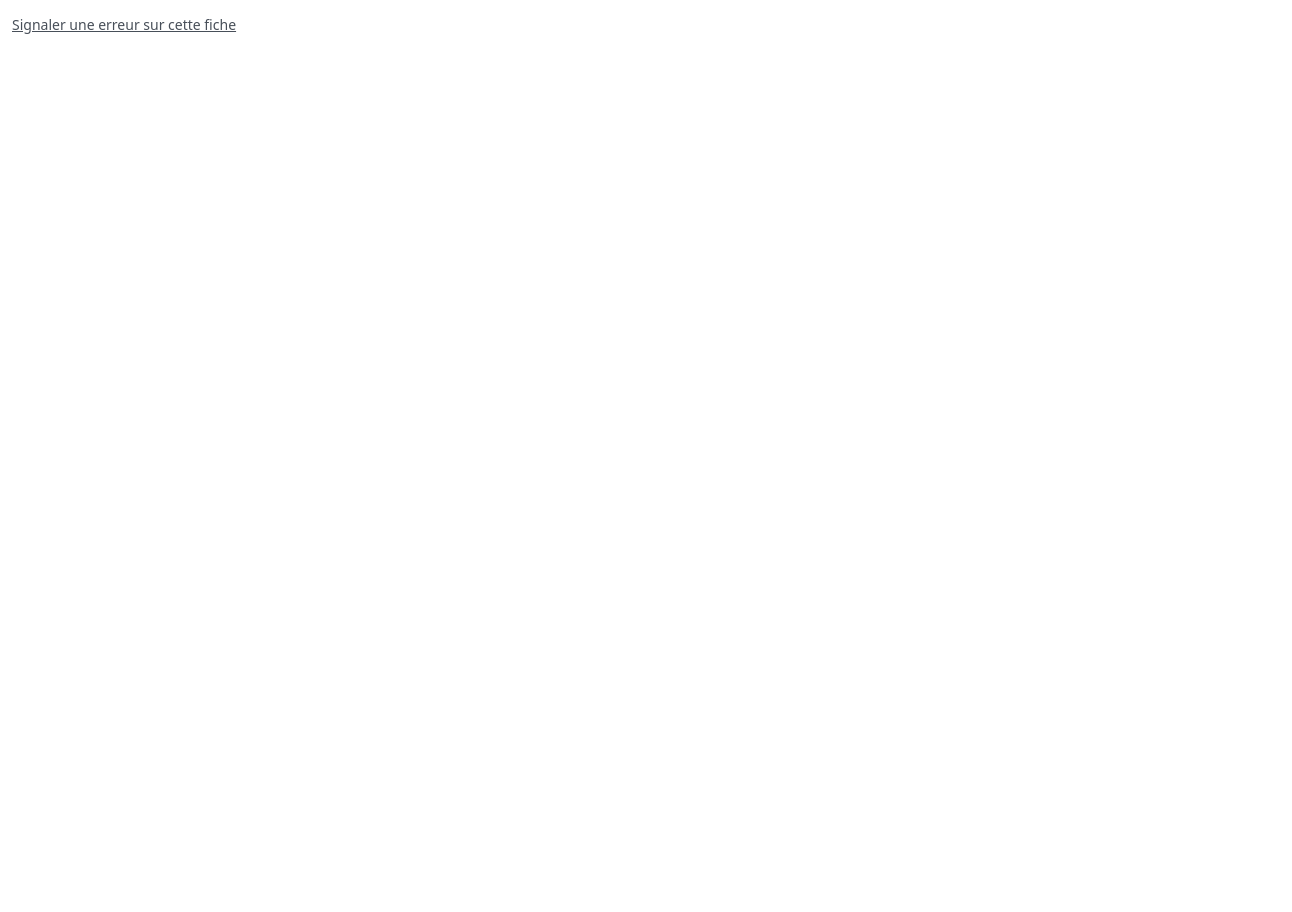
Test: ReportForm › shows why the API refused the report
Step 1. Click the button "Signaler une erreur sur cette fiche" → (124, 25), box [12,15,236,35]
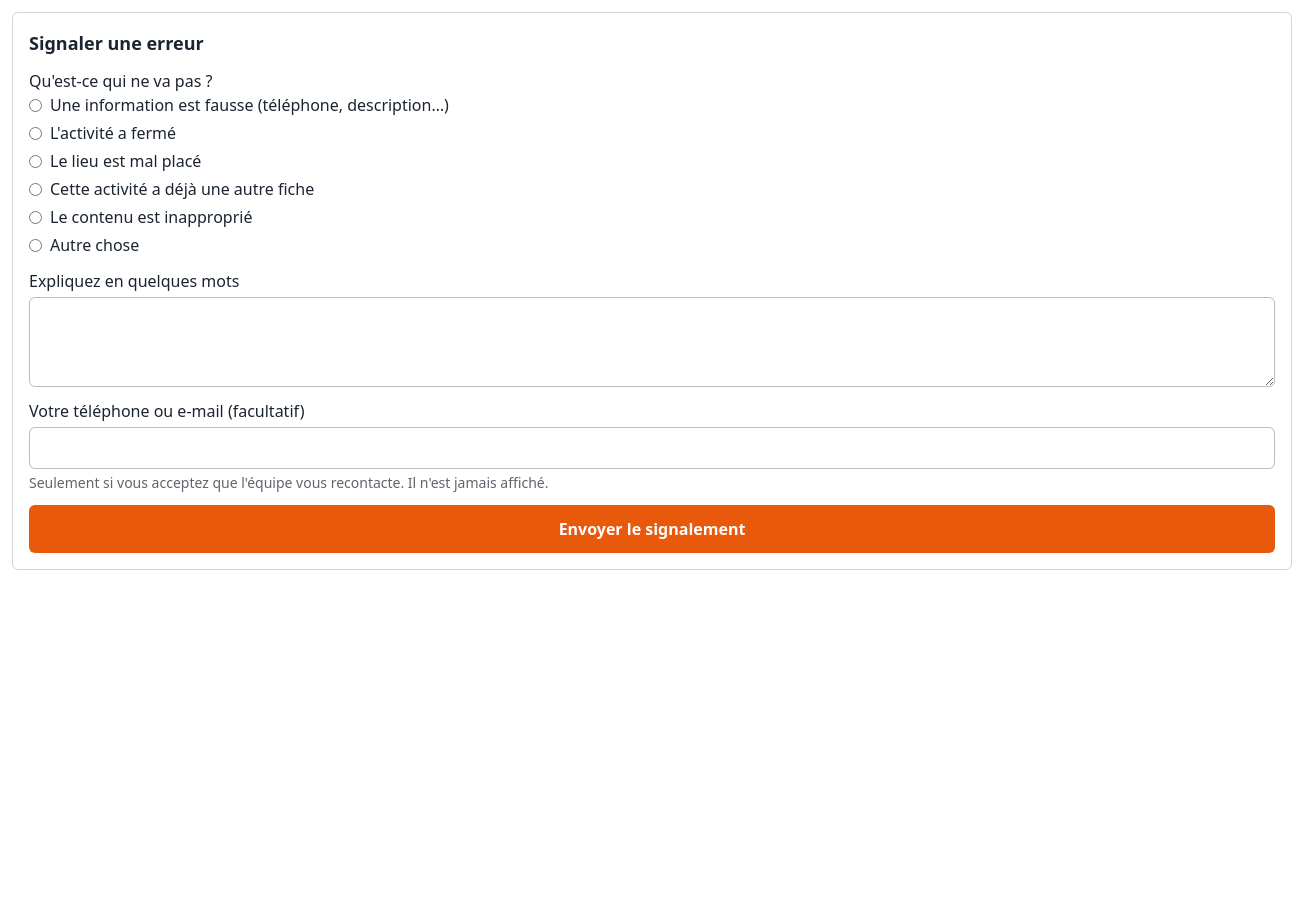
Step 2. Click the button "Envoyer le signalement" → (652, 529), box [29,505,1275,553]
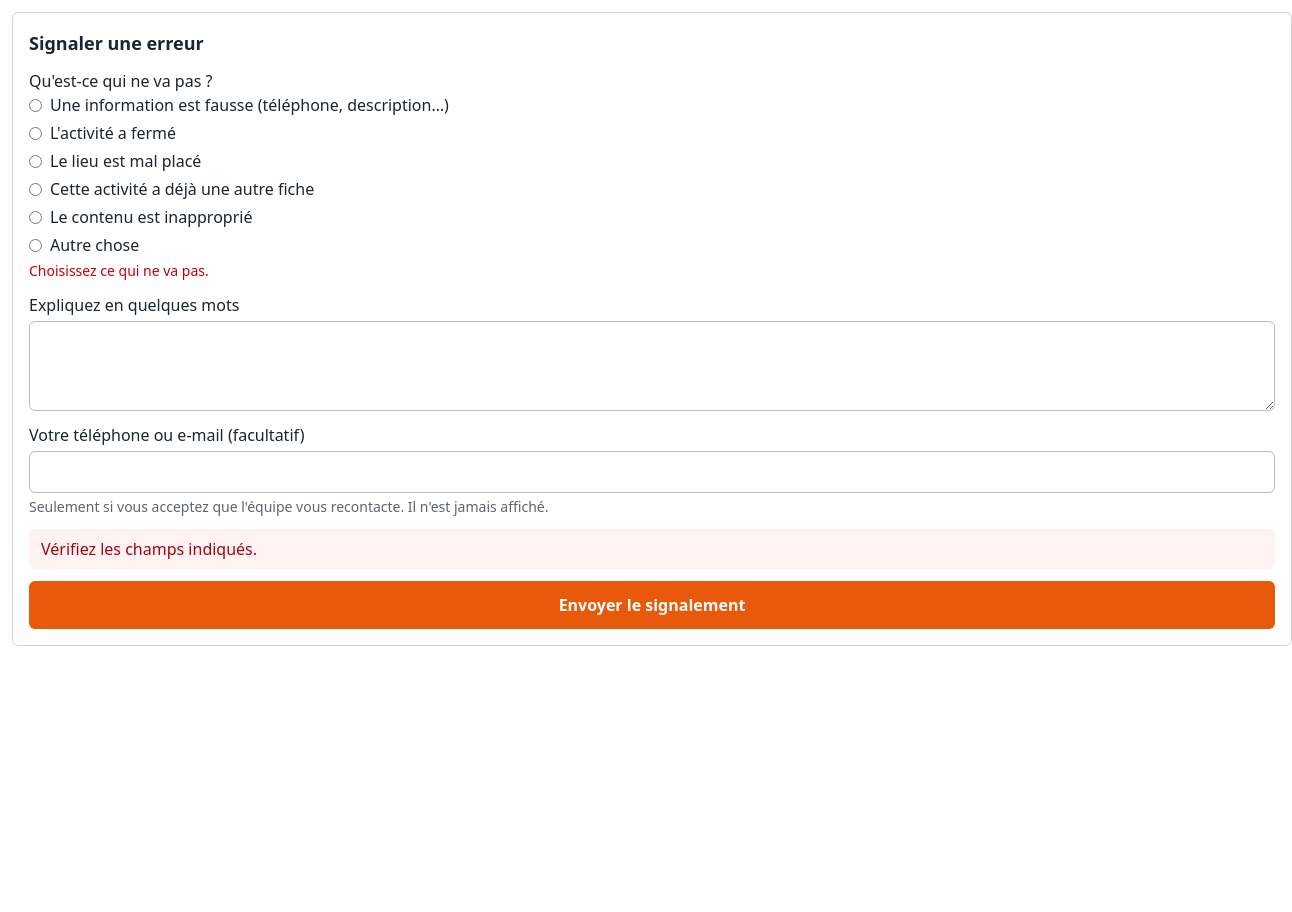
Expected: the text "Choisissez ce qui ne va pas." is shown, [29,261,209,280]
